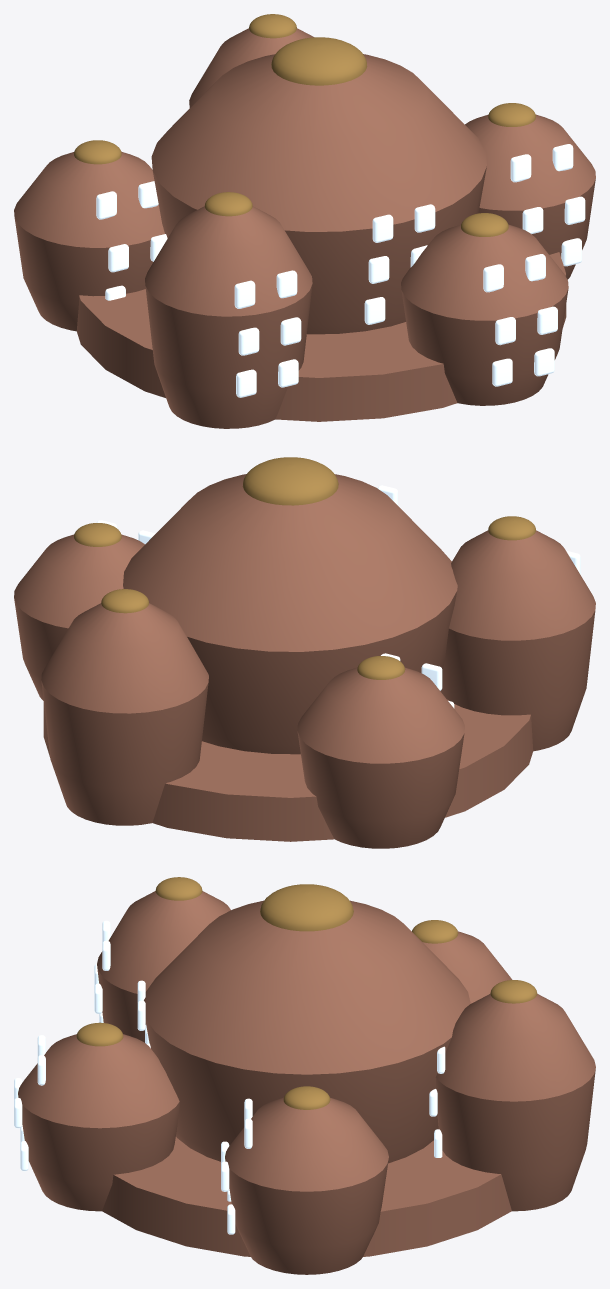
The picture shows the model from 3 angles, top to bottom: view 1: azimuth 30°, elevation 25°; view 2: azimuth 150°, elevation 25°; view 3: azimuth 270°, elevation 25°; orthographic projection. The views are drawn at different scales.
Visible parts, largest first — view 1: Bulb shaped chamber, Bulb shaped chamber.004, Bulb shaped chamber.005, Foundation drum, Bulb shaped chamber.003, Bulb shaped chamber.001, Tower crown, Bulb shaped chamber.002, Tower crown.004, Tower crown.002, Tower crown.003, Tower crown.005 (+10 smaller); view 2: Bulb shaped chamber, Bulb shaped chamber.002, Bulb shaped chamber.004, Bulb shaped chamber.003, Foundation drum, Bulb shaped chamber.001, Tower crown, Tower crown.004, Tower crown.001, Tower crown.002, Tower crown.003; view 3: Bulb shaped chamber, Bulb shaped chamber.002, Bulb shaped chamber.001, Bulb shaped chamber.005, Foundation drum, Bulb shaped chamber.004, Tower crown, Bulb shaped chamber.003, Tower crown.004, Tower crown.005, Tower crown.001, Tower crown.002 (+1 smaller).
Part boxes in pixels (x1,y1,x2,y2): Bulb shaped chamber: (151,54,486,334); Bulb shaped chamber.004: (145,206,312,428); Bulb shaped chamber.005: (401,224,568,405); Foundation drum: (76,252,566,421); Bulb shaped chamber.003: (14,151,164,331); Bulb shaped chamber.001: (465,114,595,279); Tower crown: (271,37,367,85); Bulb shaped chamber.002: (189,28,313,107); Tower crown.004: (204,192,252,216); Tower crown.002: (249,14,296,38); Tower crown.003: (74,140,121,164); Tower crown.005: (461,213,508,236); Bulb shaped chamber: (123,474,457,754); Bulb shaped chamber.002: (41,603,208,825); Bulb shaped chamber.004: (440,530,595,751); Bulb shaped chamber.003: (297,667,464,848); Foundation drum: (43,699,533,841); Bulb shaped chamber.001: (14,534,144,700); Tower crown: (242,457,338,505); Tower crown.004: (488,516,535,540); Tower crown.001: (74,523,121,546); Tower crown.002: (101,589,148,613); Tower crown.003: (357,656,405,679); Bulb shaped chamber: (144,900,470,1163); Bulb shaped chamber.002: (435,994,595,1211); Bulb shaped chamber.001: (225,1097,388,1274); Bulb shaped chamber.005: (18,1034,179,1211); Foundation drum: (102,1137,511,1256); Bulb shaped chamber.004: (97,891,230,1042); Tower crown: (260,884,353,931); Bulb shaped chamber.003: (422,931,512,1003); Tower crown.004: (155,877,202,900); Tower crown.005: (76,1022,123,1046); Tower crown.001: (283,1086,330,1109); Tower crown.002: (490,980,537,1003).
Bounding box in the file's own units: 2.36 × 1.24 × 2.46.
